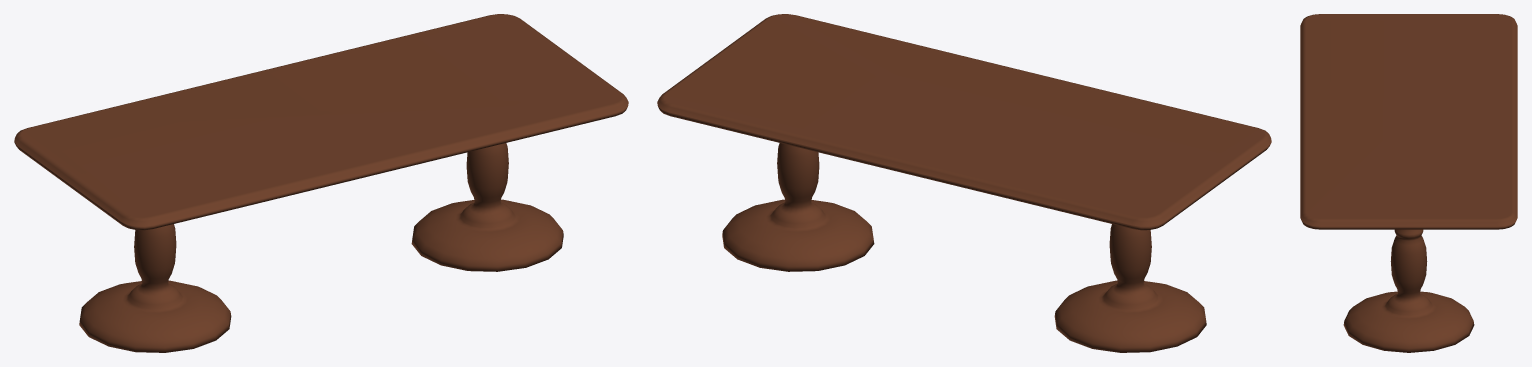
File: table.fbx
3 views of the same model, side by side, from view 1: azimuth 30°, elevation 25°; view 2: azimuth 150°, elevation 25°; view 3: azimuth 270°, elevation 25° (orthographic). The views are drawn at different scales.
Parts seen in each view (by area): view 1: table; view 2: table; view 3: table.
Part boxes in pixels (box(x1,y1,x2,y2)): table: box(14, 14, 628, 352); table: box(657, 14, 1271, 352); table: box(1300, 14, 1517, 352).
Size of the model in its own units: 2.44 by 1.07 by 0.76.
